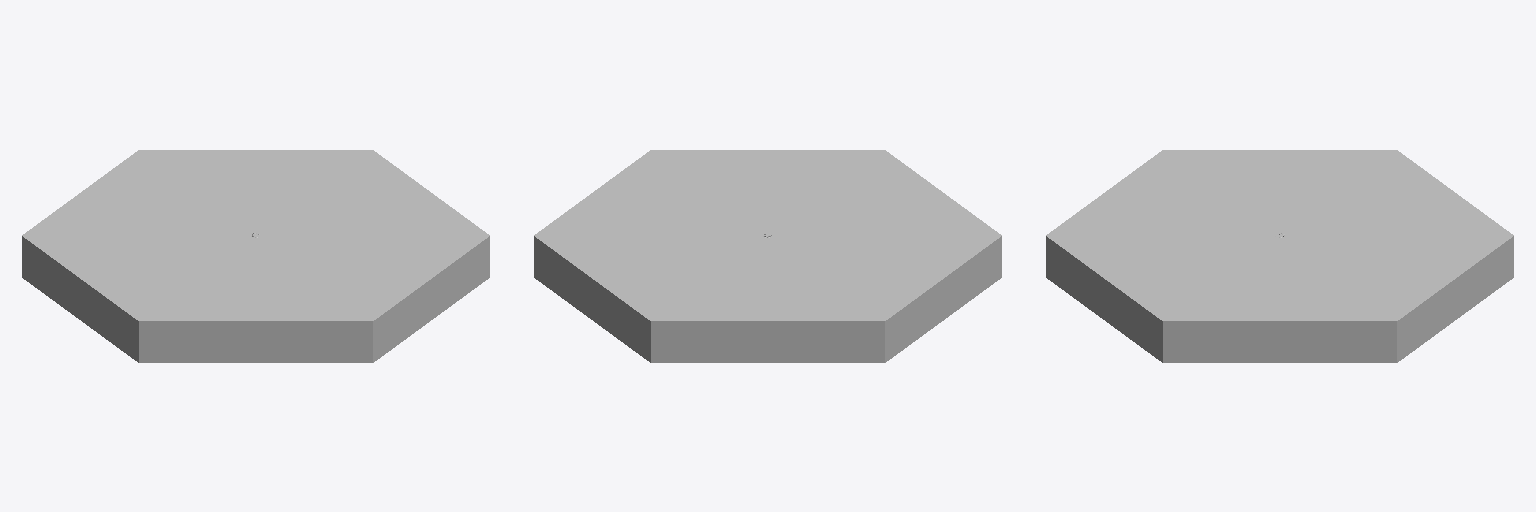
Rendered from GameBoard.obj.
3 views of the same model, side by side, from view 1: azimuth 30°, elevation 25°; view 2: azimuth 150°, elevation 25°; view 3: azimuth 270°, elevation 25° (orthographic).
Visible parts, largest first — view 1: IsleBorder.003; view 2: IsleBorder.003; view 3: IsleBorder.003.
Part boxes in pixels (left/top/right/bottom): IsleBorder.003: left=22, top=150, right=489, bottom=362; IsleBorder.003: left=534, top=150, right=1001, bottom=362; IsleBorder.003: left=1046, top=150, right=1513, bottom=362.
Size of the model in its own units: 733 by 85.49 by 847.